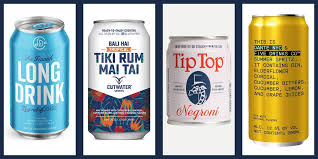can: (248, 15, 309, 146), (88, 19, 150, 141), (10, 14, 70, 140), (166, 36, 232, 125)
